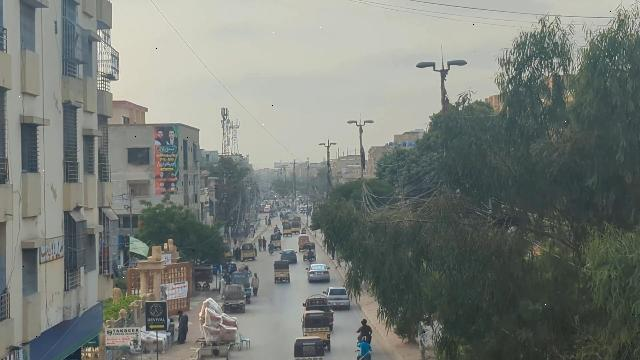Car: (325, 286, 351, 310), (307, 263, 330, 284)
Person: (175, 309, 188, 345), (250, 272, 261, 297), (357, 337, 371, 356), (359, 319, 371, 340)
Rickshaw: (300, 310, 332, 349), (292, 336, 326, 360), (273, 260, 291, 284)
Suzuki: (303, 293, 335, 324), (221, 283, 248, 313)
